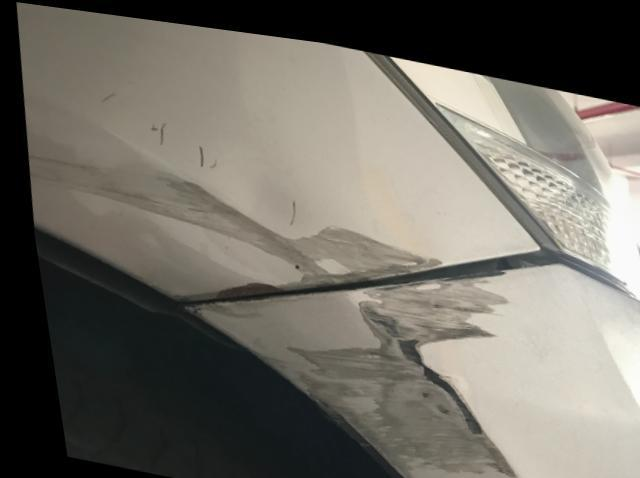scratch: (174, 255, 512, 478), (23, 150, 434, 300)
